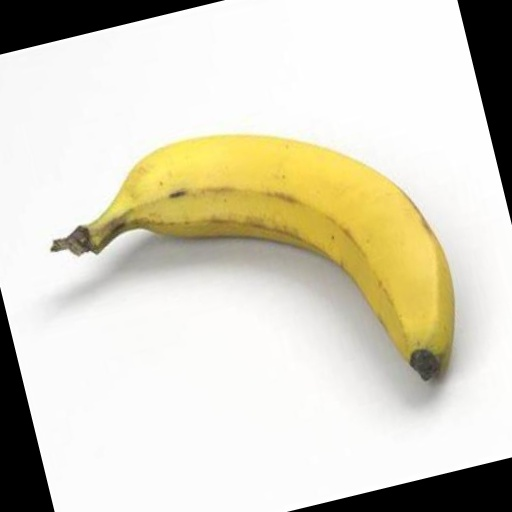fruit: (0, 135, 129, 359)
